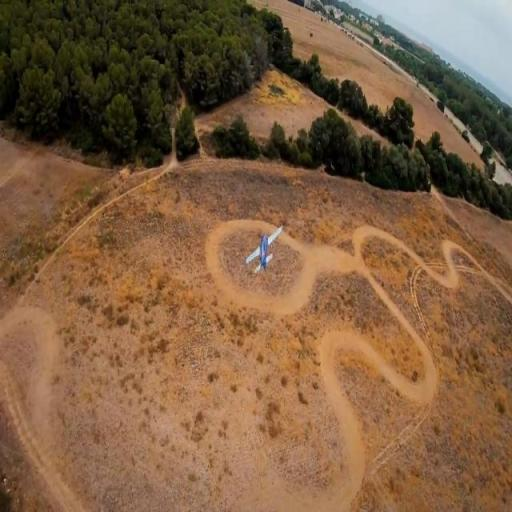uav: (244, 225, 283, 271)
